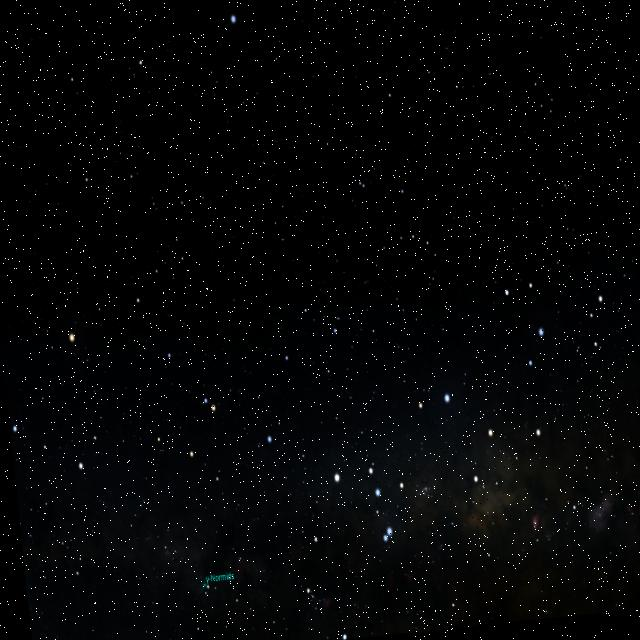Telescopium: (302, 300, 338, 338)
